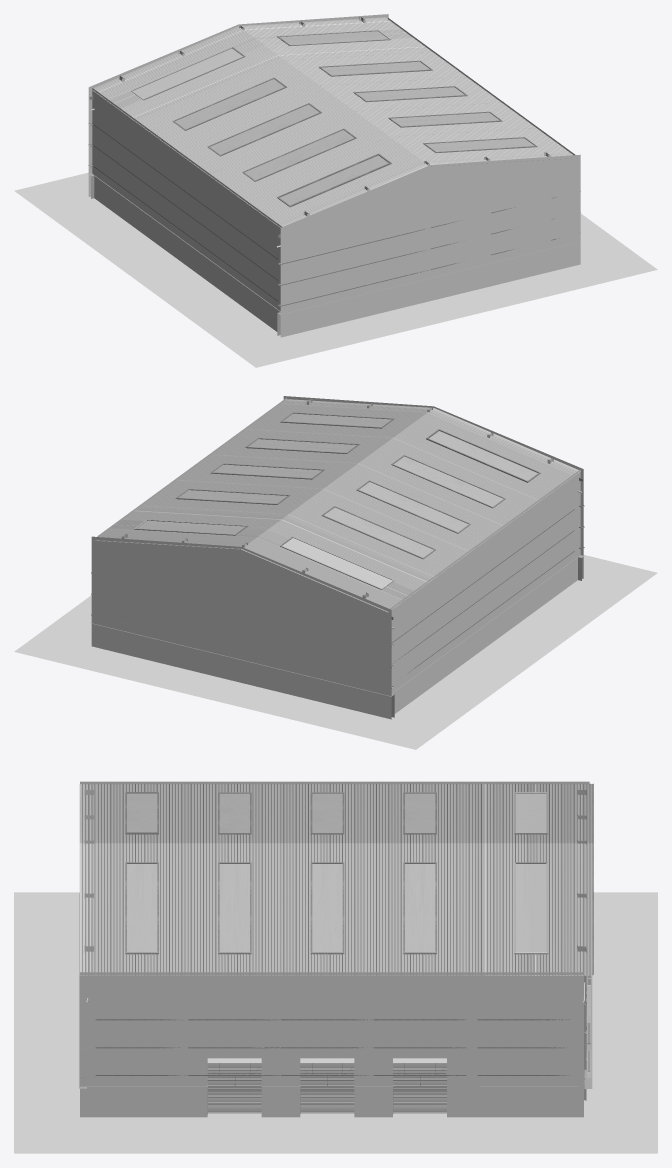
The model's file is Hangar-Projet-Doceo-Version-Unity.fbx.
3 renders of one model, top to bottom at view 1: azimuth 30°, elevation 25°; view 2: azimuth 150°, elevation 25°; view 3: azimuth 270°, elevation 25°, orthographic. The views are drawn at different scales.
Visible parts, largest first — view 1: Toit, Wall_Back, Sol, Wall_Left, Roof_Window, Roof_Frames, Wall_Front, Wall_Back_Construction, Wall_Left_Construction; view 2: Toit, Wall_Front, Sol, Wall_Left, Roof_Window, Roof_Frames, Wall_Back, Wall_Left_Construction; view 3: Toit, Wall_Right, Sol, Roof_Window, Roof_Frames, Porte.004, Porte.005, Porte.003, Wall_Right_Construction, Wall_Left, Wall_Front_Construction, Wall_Front_Beams.
Boxes of the visible parts, x1,y1,x2,y2 form: Toit: (91,17,577,227); Wall_Back: (280,154,580,337); Sol: (14,172,657,367); Wall_Left: (92,88,281,331); Roof_Window: (133,31,534,205); Roof_Frames: (131,30,537,207); Wall_Front: (88,14,388,196); Wall_Back_Construction: (276,191,580,306); Wall_Left_Construction: (92,123,277,301); Toit: (94,399,580,612); Wall_Front: (91,536,391,719); Sol: (14,555,657,749); Wall_Left: (390,469,580,713); Roof_Window: (136,413,537,588); Roof_Frames: (134,412,540,589); Wall_Back: (283,396,583,578); Wall_Left_Construction: (391,509,574,673); Toit: (79,783,593,975); Wall_Right: (80,972,583,1117); Sol: (14,892,657,1153); Roof_Window: (127,793,546,952); Roof_Frames: (125,792,548,954); Porte.004: (300,1058,354,1113); Porte.005: (207,1058,261,1113); Porte.003: (393,1058,446,1113); Wall_Right_Construction: (95,1019,569,1085); Wall_Left: (80,781,589,784); Wall_Front_Construction: (583,975,591,1078); Wall_Front_Beams: (577,790,586,1100).
Size of the model in its own units: 4000 by 1298 by 4169.
Materials: 7 (2 with a texture image).
